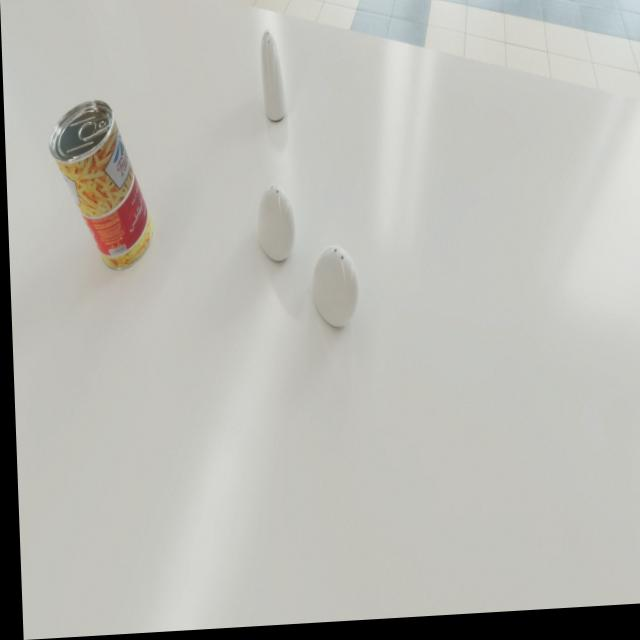Potato_sticks: (47, 99, 153, 274)
Salt: (308, 248, 358, 332), (254, 187, 295, 265), (259, 31, 286, 124)
